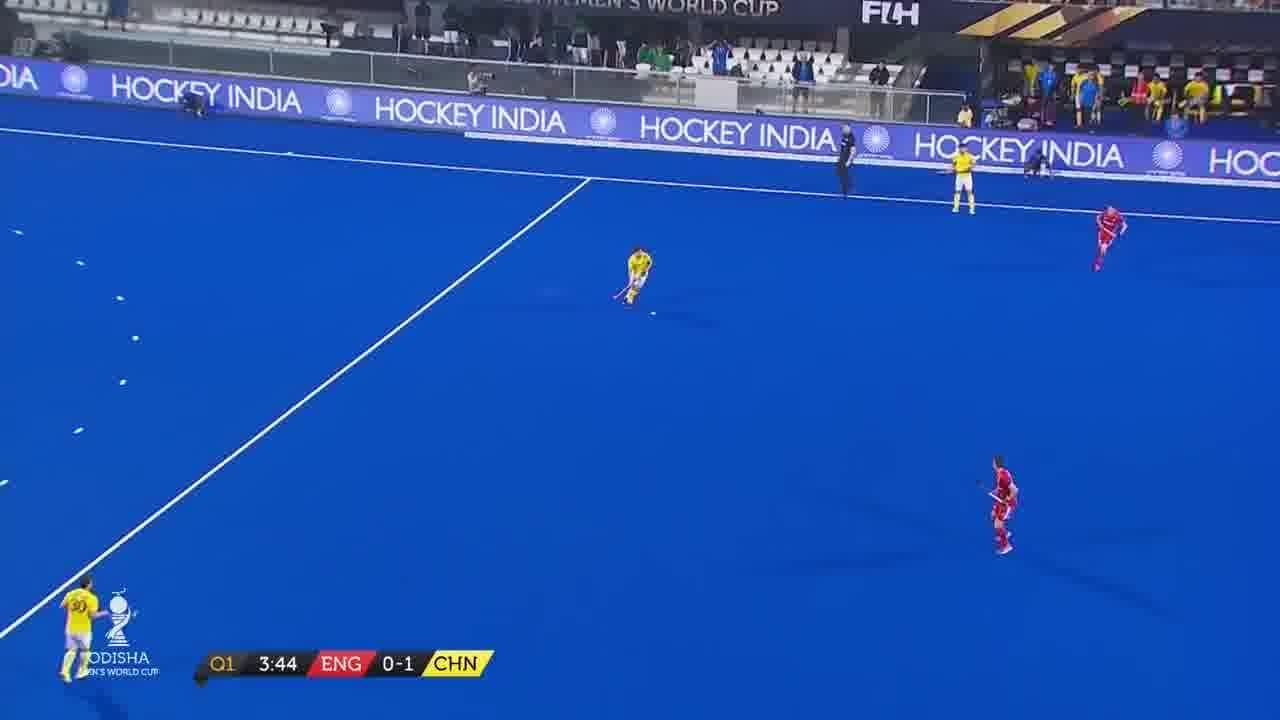ball: (646, 309, 658, 317)
